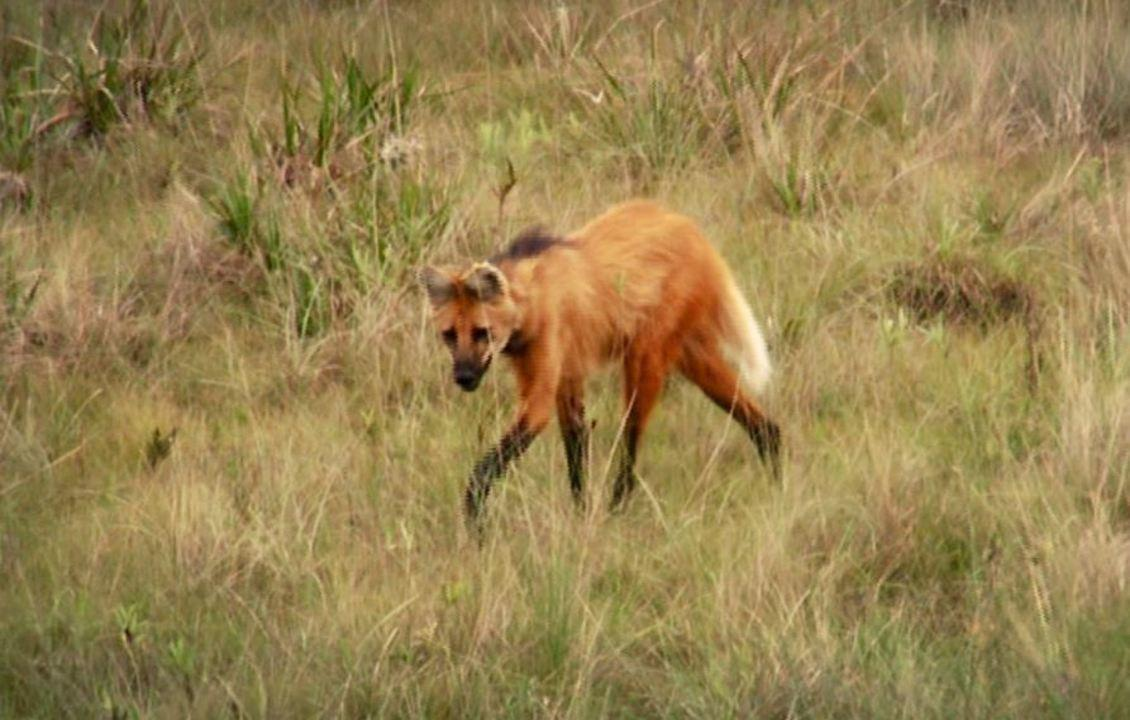LoboGuara: (416, 194, 798, 511)
